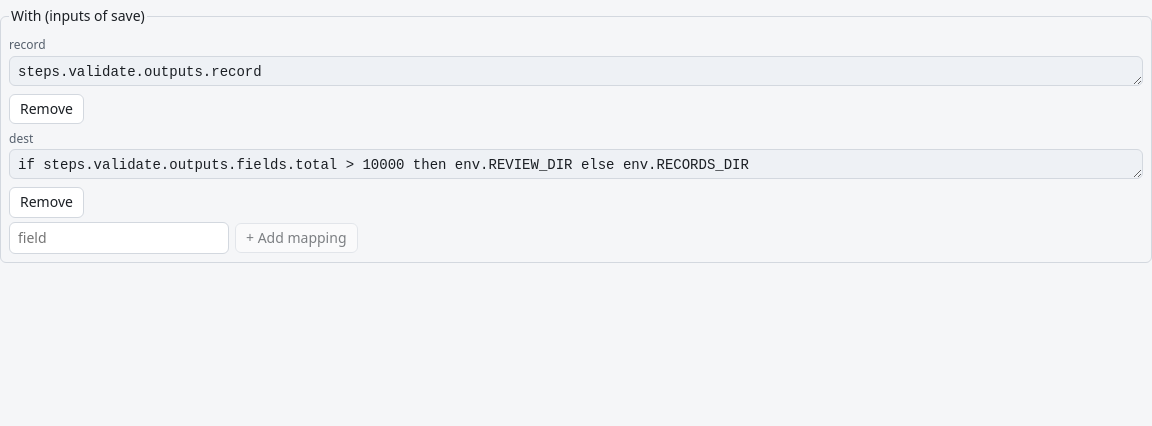
Test case: WithMappingEditor › keeps literals literal and falls back to free rows for an unknown interface
Type "note" into the field named "New mapping field" at point(119, 238), box [9, 222, 229, 254]
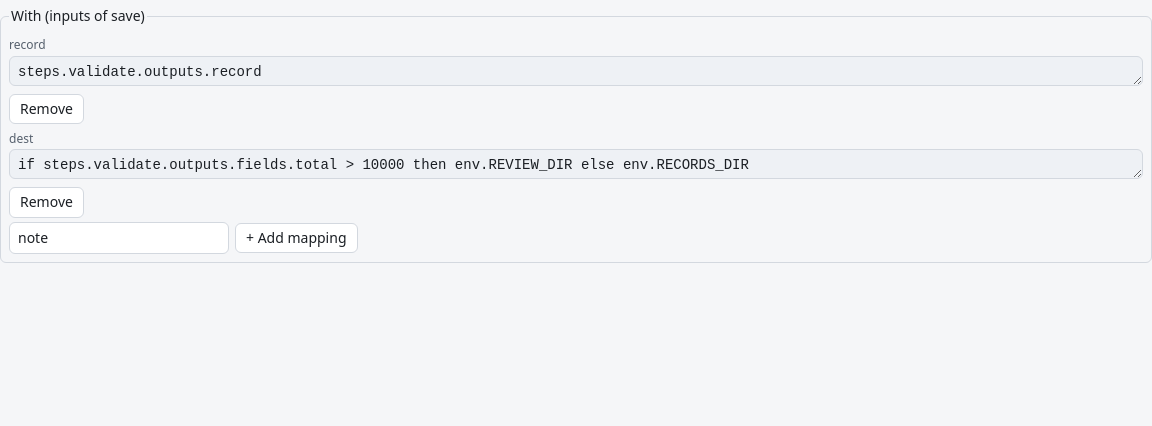
Click the button "+ Add mapping" at point(296, 238), box [235, 223, 358, 253]
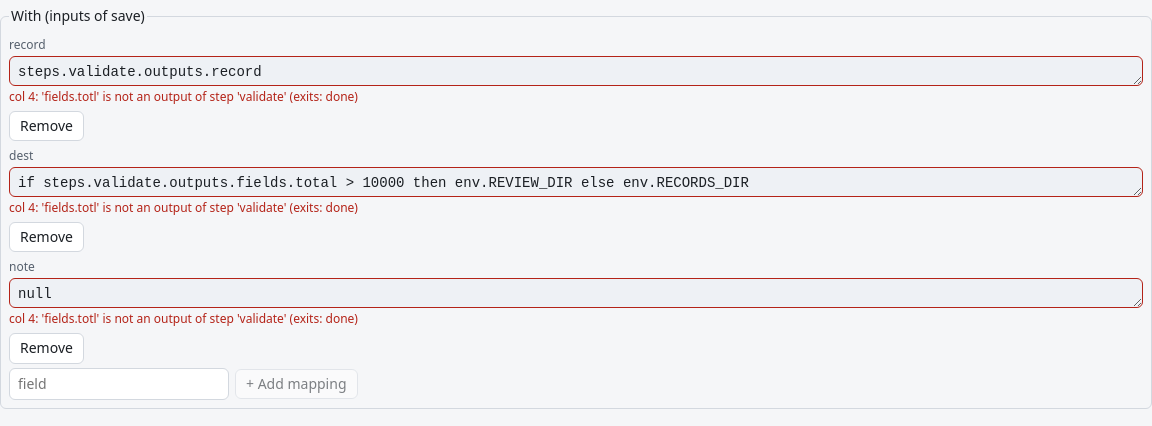
Expected: the text box labelled "note" is shown, [9, 278, 1143, 308]
